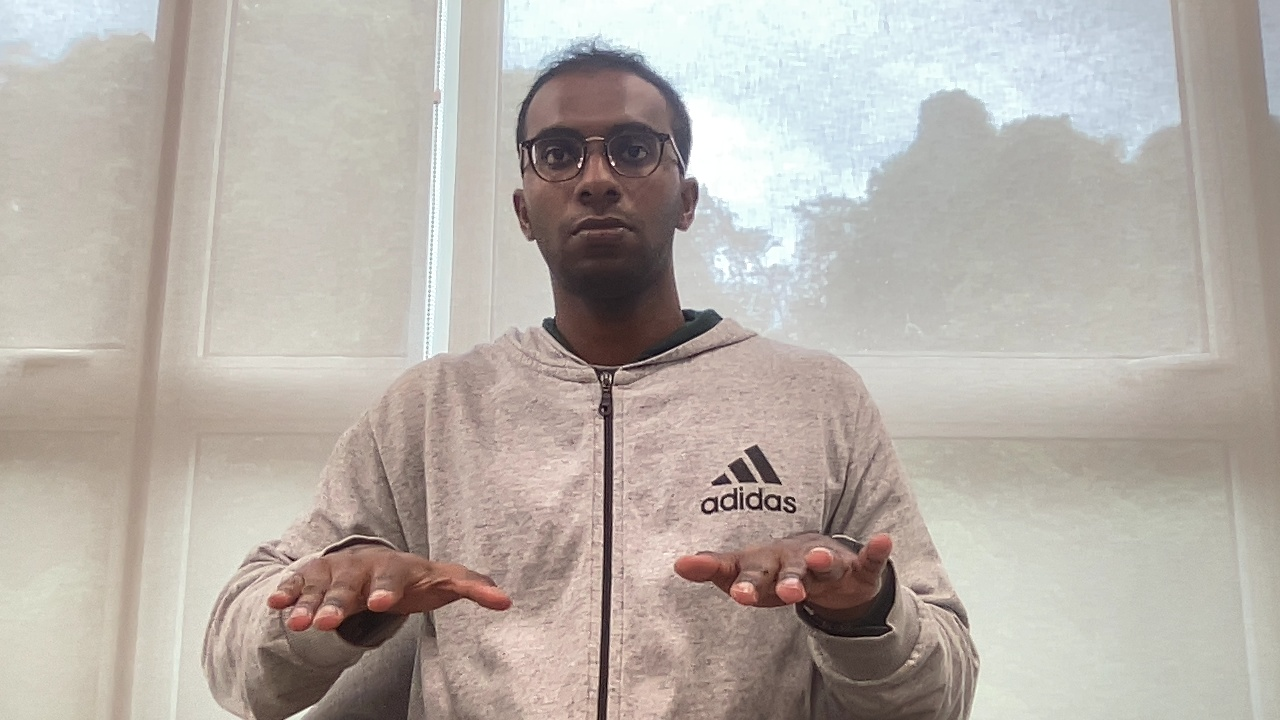finish: (262, 526, 896, 634)
